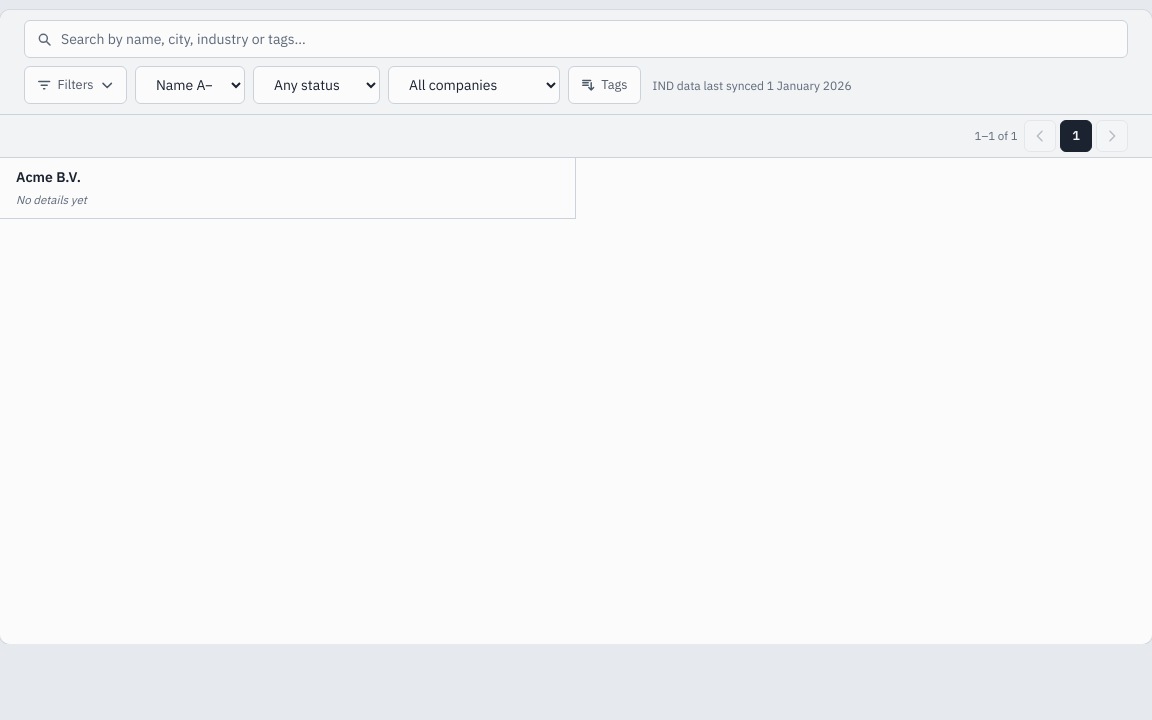
Scenario: CompaniesView – detail modal › shows the Edit button in the modal for an admin
This screenshot has width=1152, height=720.
Click the element with class "company-tile" at (288, 188), box [0,158,576,219]
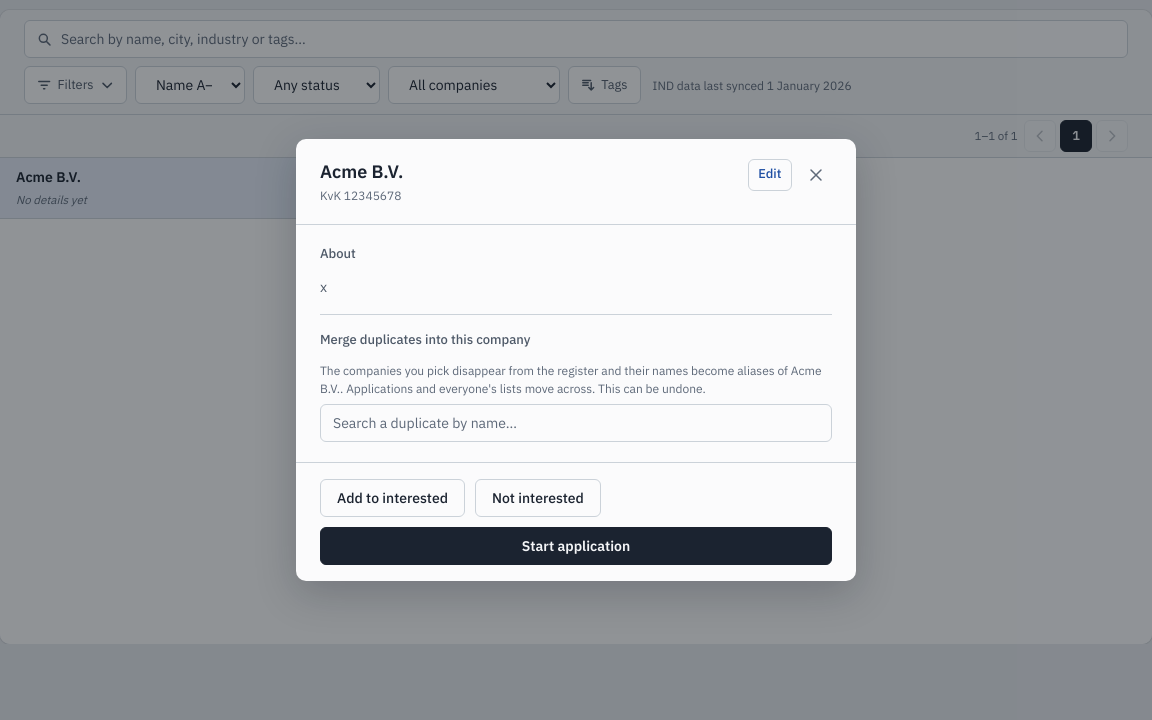
Result: the button "Edit" is shown at [748,159,792,191]
